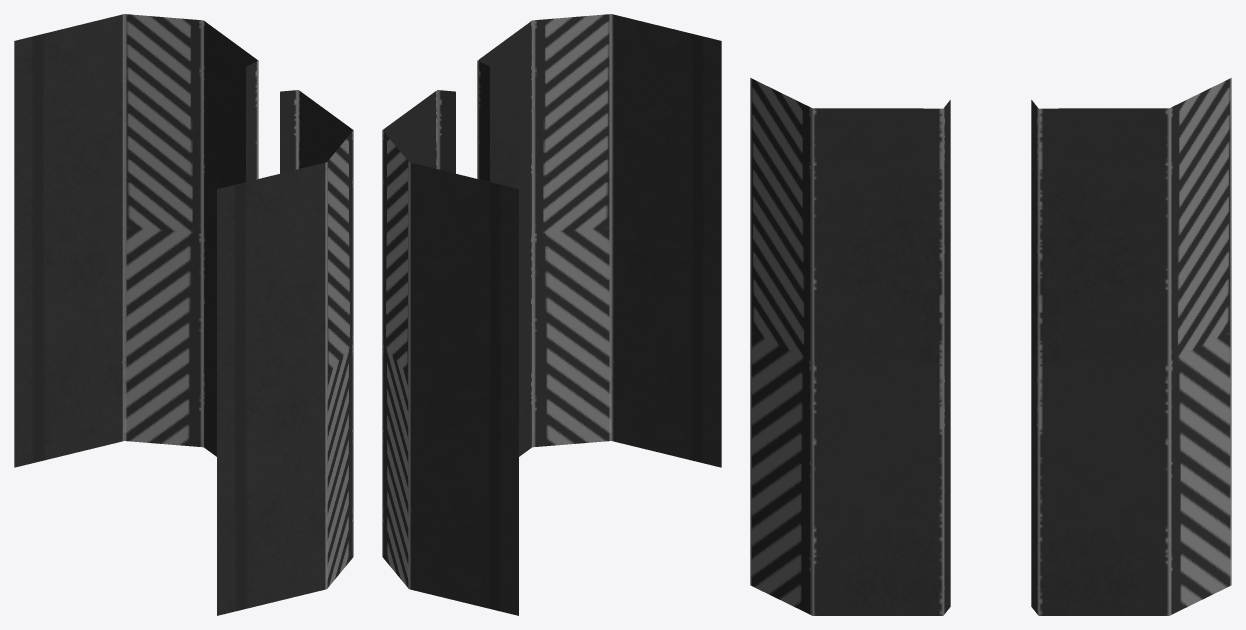
The model's file is Grand_frame_pillar.fbx.
3 views of the same model, side by side, from view 1: azimuth 30°, elevation 25°; view 2: azimuth 150°, elevation 25°; view 3: azimuth 270°, elevation 25° (orthographic). The views are drawn at different scales.
Visible parts, largest first — view 1: Grand_frame_pillar008; view 2: Grand_frame_pillar008; view 3: Grand_frame_pillar008.
Boxes of the visible parts, box(x1,y1,x2,y2) form: Grand_frame_pillar008: box(14, 14, 353, 615); Grand_frame_pillar008: box(382, 14, 721, 615); Grand_frame_pillar008: box(750, 78, 1231, 615).
Size of the model in its own units: 40 by 100 by 86.13.
